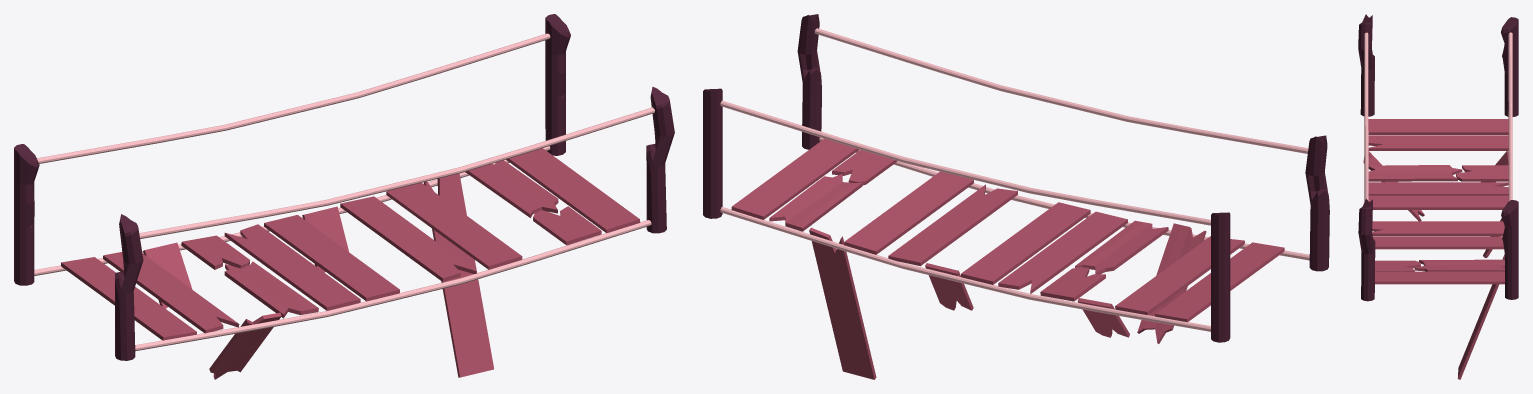
The model's file is bridge_001_grp.fbx.
The picture shows the model from 3 angles, left to right: view 1: azimuth 30°, elevation 25°; view 2: azimuth 150°, elevation 25°; view 3: azimuth 270°, elevation 25°; orthographic projection. The views are drawn at different scales.
Visible parts, largest first — view 1: bridge_001_grp; view 2: bridge_001_grp; view 3: bridge_001_grp.
Part boxes in pixels (x1,y1,x2,y2): bridge_001_grp: [14, 14, 674, 379]; bridge_001_grp: [703, 14, 1329, 379]; bridge_001_grp: [1358, 14, 1518, 379].
Size of the model in its own units: 628 by 331 by 223.
